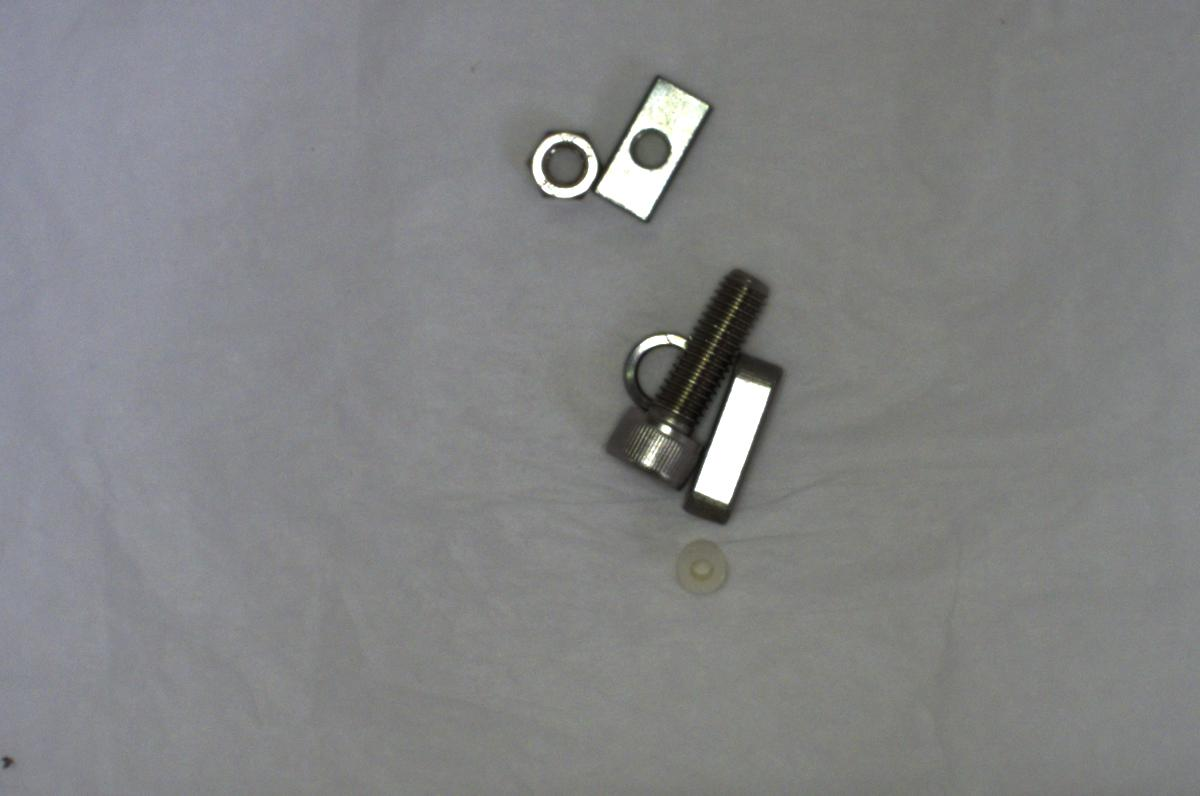Hexagon nut: (519, 122, 606, 206)
Hexagon screw: (604, 261, 766, 486)
Keybar: (685, 349, 784, 513)
Plastic cushion pillar: (670, 534, 735, 601)
Rectangular nut: (587, 73, 714, 221)
Spring washer: (617, 318, 688, 403)
